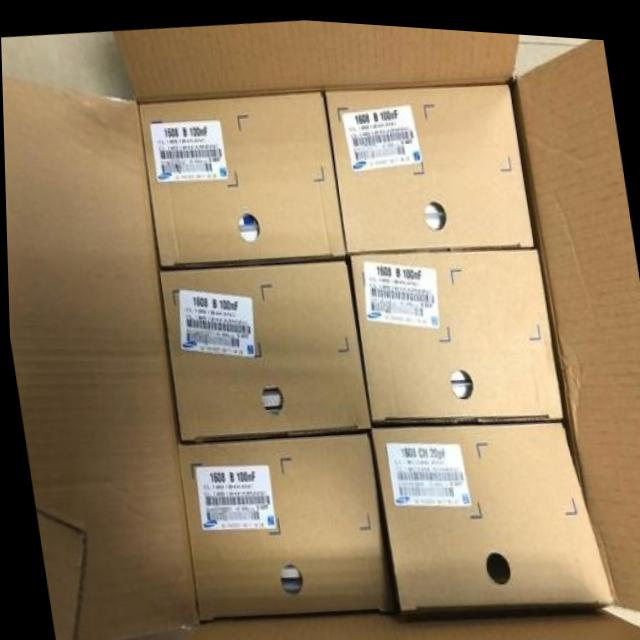box: (369, 412, 620, 611), (174, 428, 384, 620), (158, 254, 368, 438), (347, 241, 560, 422), (324, 71, 533, 252), (137, 89, 346, 266)
